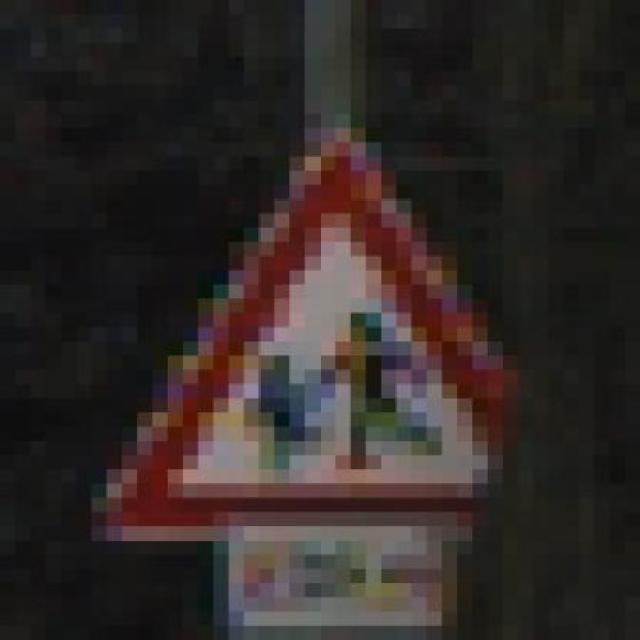Beware of children: (61, 86, 564, 554)
